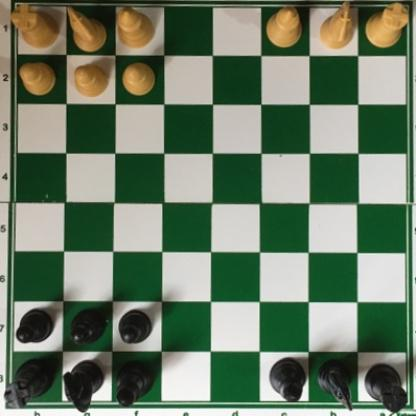black-bishop: (115, 359, 155, 407), (269, 358, 308, 402)
black-knight: (61, 358, 103, 414), (316, 359, 359, 412)
black-pawn: (69, 308, 107, 349), (15, 310, 57, 347), (117, 310, 154, 348)
black-rook: (4, 360, 55, 413), (364, 364, 411, 414)
white-bishop: (264, 0, 302, 51), (115, 6, 156, 51)
white-knight: (67, 4, 109, 54), (319, 0, 359, 49)
white-pawn: (19, 64, 57, 97), (74, 65, 109, 99), (124, 63, 157, 98)
white-rook: (364, 0, 415, 50), (12, 3, 61, 51)
